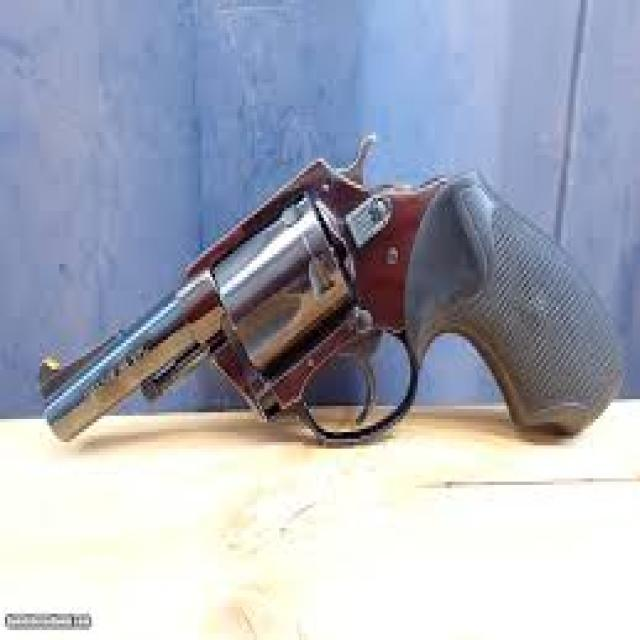Gun: (9, 66, 636, 486)
